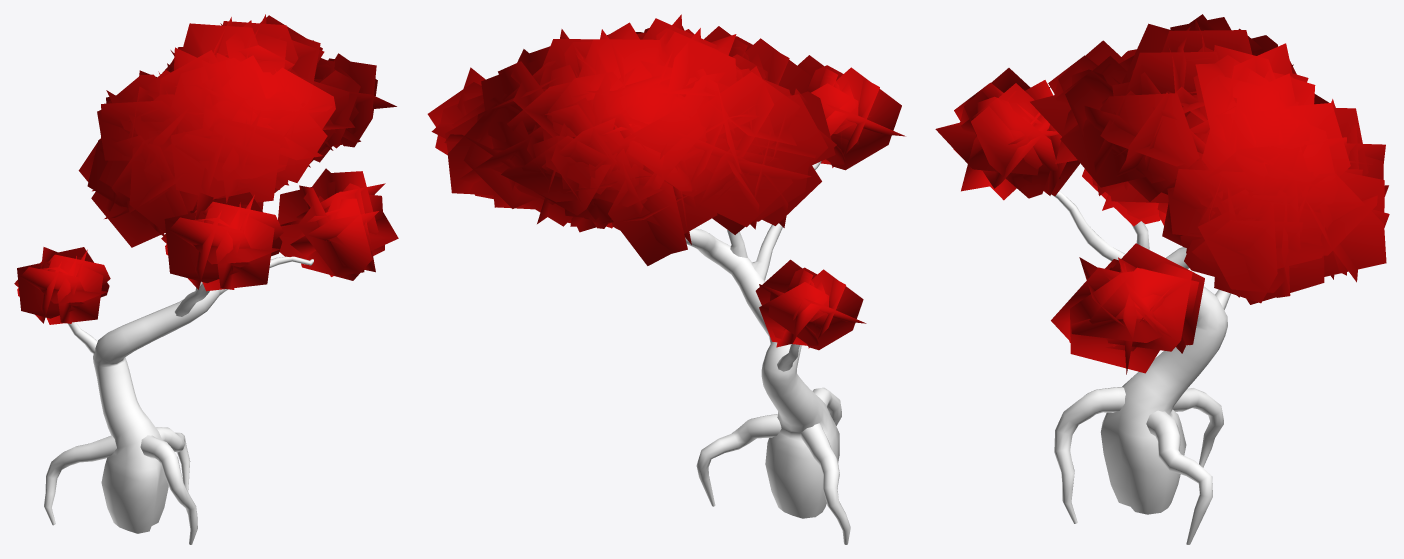
Rendered from Tree.fbx.
The picture shows the model from 3 angles, left to right: view 1: azimuth 30°, elevation 25°; view 2: azimuth 150°, elevation 25°; view 3: azimuth 270°, elevation 25°; orthographic projection. The views are drawn at different scales.
Visible parts, largest first — view 1: SM_tree_02_LOD0; view 2: SM_tree_02_LOD0; view 3: SM_tree_02_LOD0.
Boxes of the visible parts, x1=… form: SM_tree_02_LOD0: x1=14, y1=14, x2=398, y2=544; SM_tree_02_LOD0: x1=427, y1=14, x2=905, y2=544; SM_tree_02_LOD0: x1=935, y1=14, x2=1389, y2=544.
Bounding box in the file's own units: 12.29 × 13.52 × 10.4.
